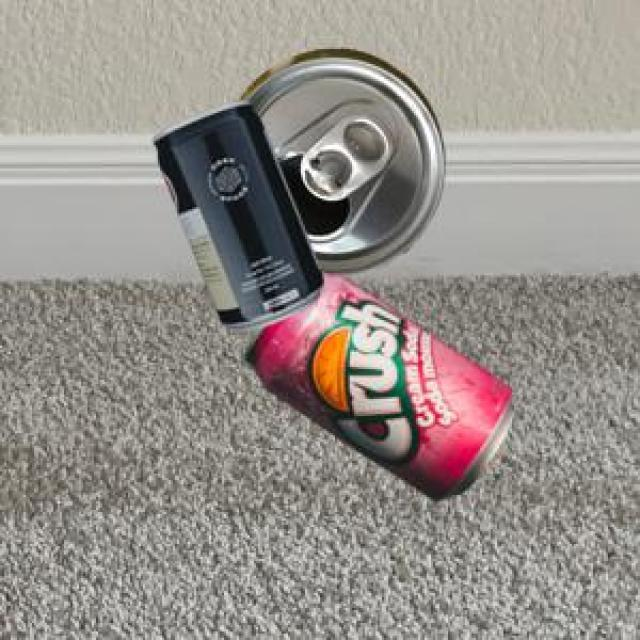Can: (242, 272, 511, 496), (238, 48, 441, 270), (150, 97, 319, 327)
